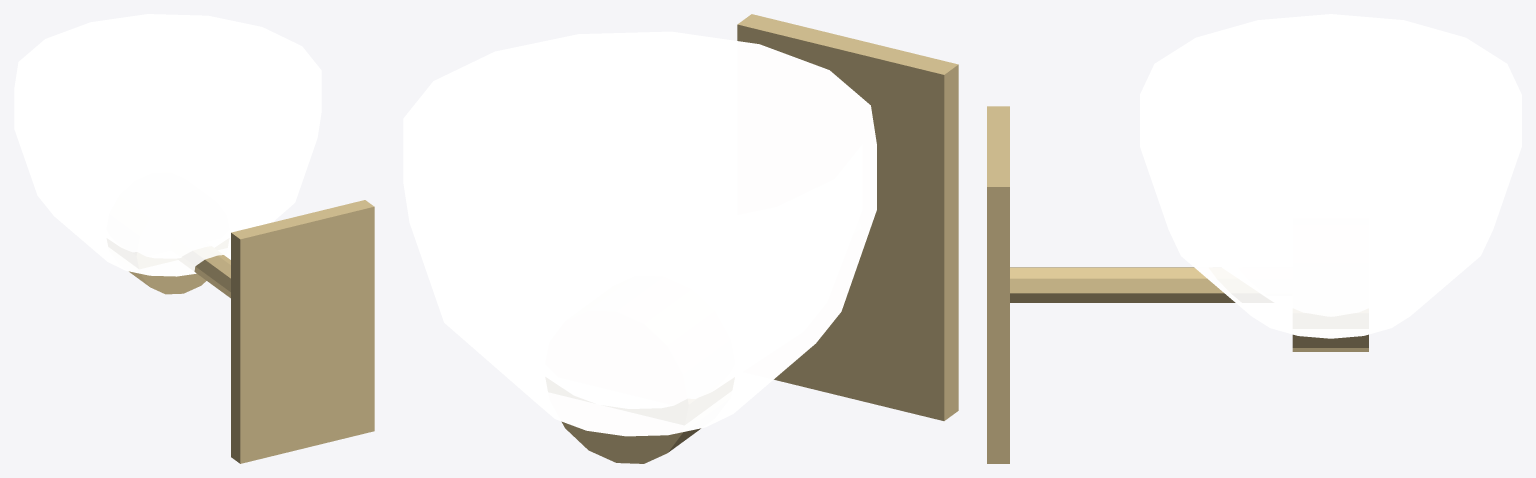
The model's file is X14_ARCH_Wall_Sconce.glb.
3 renders of one model, left to right at view 1: azimuth 30°, elevation 25°; view 2: azimuth 150°, elevation 25°; view 3: azimuth 270°, elevation 25°, orthographic. The views are drawn at different scales.
Parts seen in each view (by area): view 1: X14_ARCH_Wall_Sconce_Glass_LOD0, X14_ARCH_Wall_Sconce_LOD0; view 2: X14_ARCH_Wall_Sconce_Glass_LOD0, X14_ARCH_Wall_Sconce_LOD0; view 3: X14_ARCH_Wall_Sconce_Glass_LOD0, X14_ARCH_Wall_Sconce_LOD0.
Boxes of the visible parts, x1=… form: X14_ARCH_Wall_Sconce_Glass_LOD0: x1=14, y1=14, x2=321, y2=276; X14_ARCH_Wall_Sconce_LOD0: x1=129, y1=200, x2=374, y2=463; X14_ARCH_Wall_Sconce_Glass_LOD0: x1=403, y1=31, x2=876, y2=436; X14_ARCH_Wall_Sconce_LOD0: x1=561, y1=14, x2=958, y2=463; X14_ARCH_Wall_Sconce_Glass_LOD0: x1=1140, y1=14, x2=1521, y2=338; X14_ARCH_Wall_Sconce_LOD0: x1=987, y1=106, x2=1368, y2=463.
Size of what is drawn, in the model's own units: 0.2 by 0.19 by 0.28.
